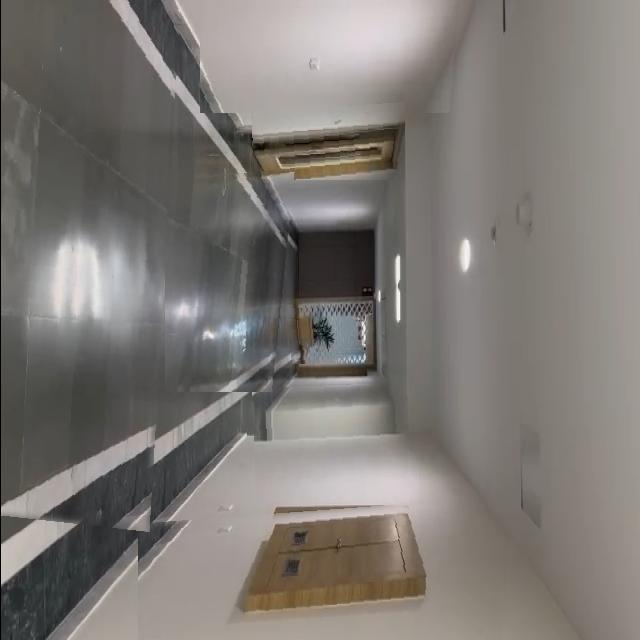door: (250, 102, 404, 180)
floor: (0, 0, 180, 532), (164, 168, 294, 392)
furniture: (285, 302, 335, 364)
wall: (137, 496, 512, 640), (199, 0, 459, 113), (251, 382, 418, 503)
